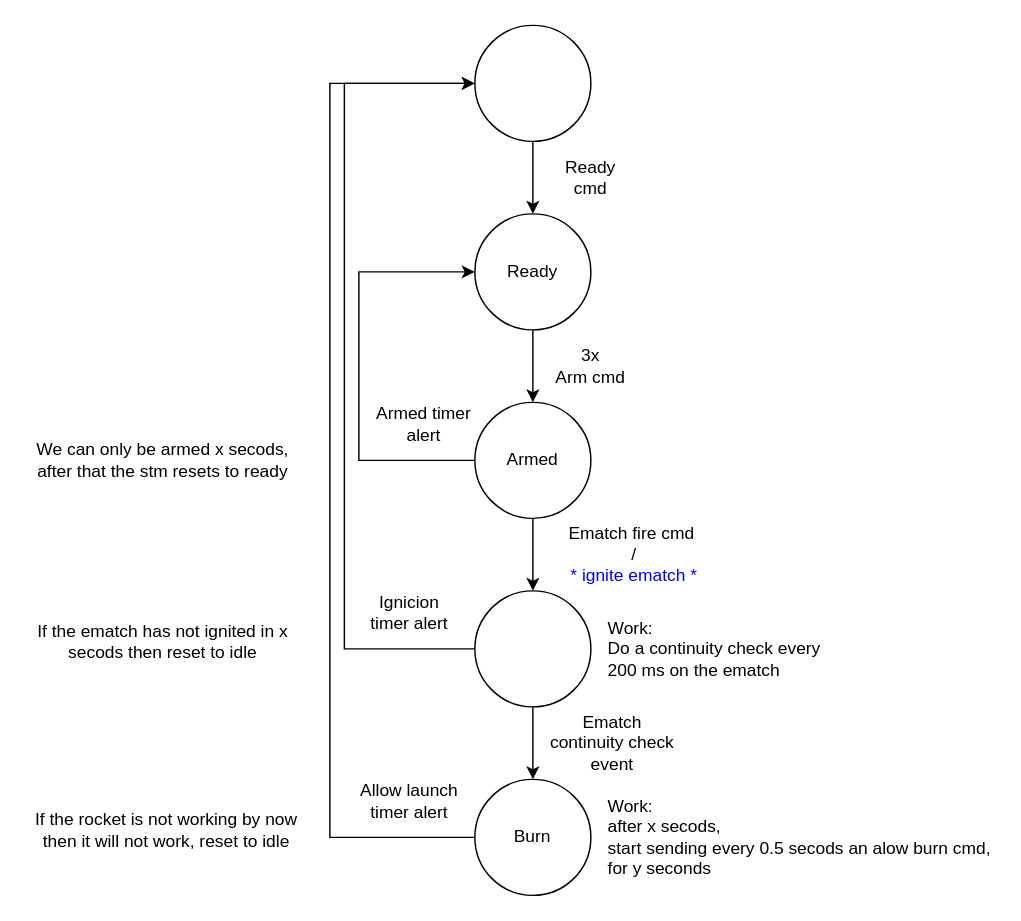
Some shapes in this 1021 by 921 pixel diagram are drawn without their labels. Each missing label, with the centre of its shape:
"Idle" goes at point (532, 82).
"Ignition" goes at point (532, 648).
